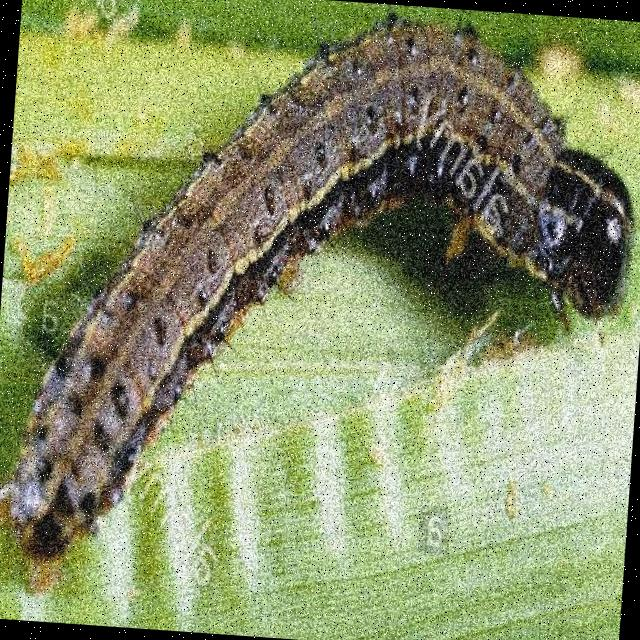worm: (1, 1, 640, 626)
